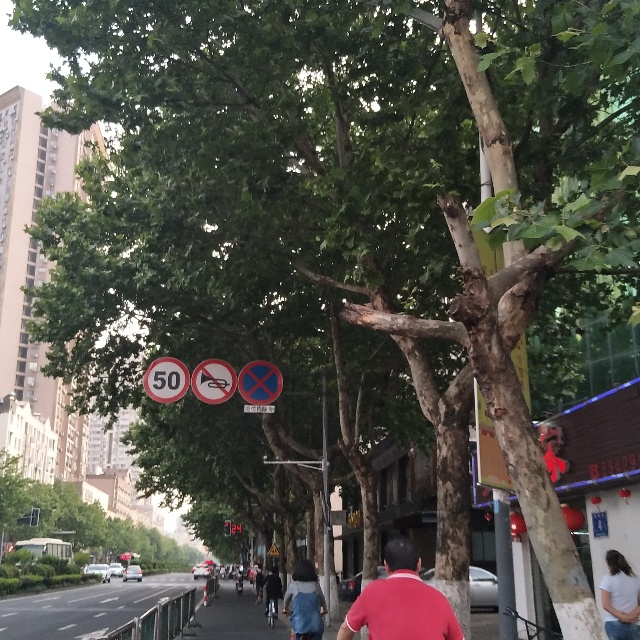crosswalk: (240, 363, 280, 406)
nohonk: (195, 365, 233, 401)
